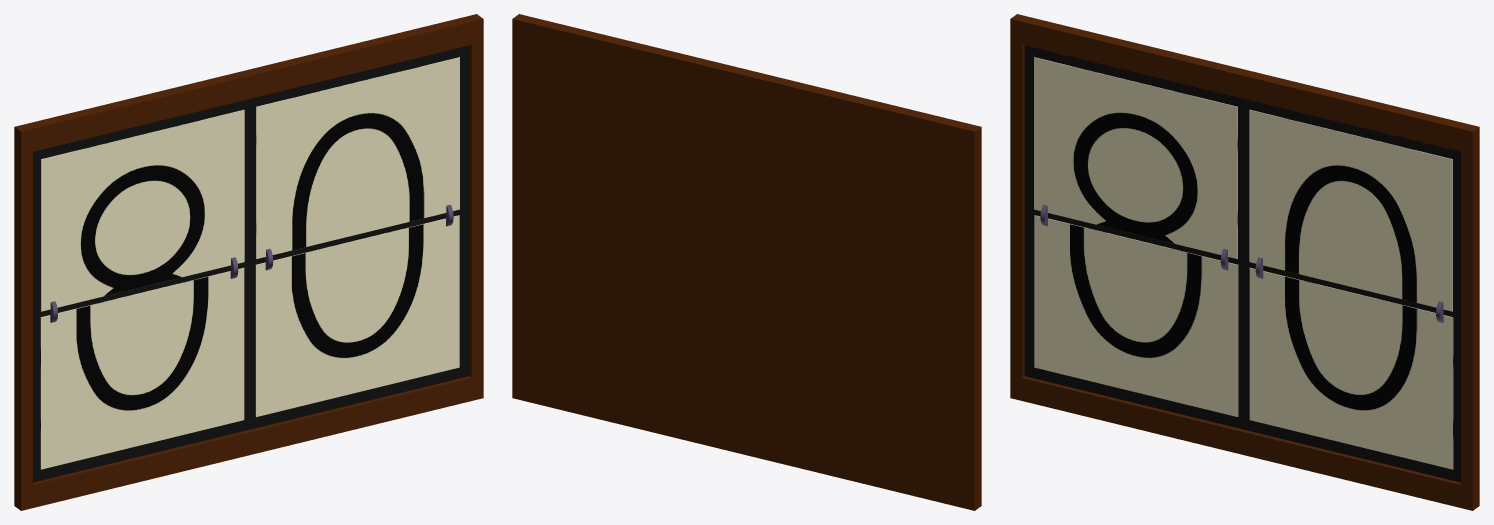
The model's file is ScBoard.FBX.
3 renders of one model, left to right at view 1: azimuth 30°, elevation 25°; view 2: azimuth 150°, elevation 25°; view 3: azimuth 330°, elevation 25°, orthographic.
Parts seen in each view (by area): view 1: ScoreBoard, 2-000, 1-000, 2-009, 1-001; view 2: ScoreBoard; view 3: ScoreBoard, 1-000, 2-000, 2-009, 1-001.
Boxes of the visible parts, bbox=[...] form: ScoreBoard: bbox=[14, 14, 483, 510]; 2-000: bbox=[40, 267, 244, 469]; 1-000: bbox=[255, 215, 459, 416]; 2-009: bbox=[41, 109, 244, 311]; 1-001: bbox=[256, 57, 459, 258]; ScoreBoard: bbox=[512, 14, 981, 510]; ScoreBoard: bbox=[1010, 14, 1479, 510]; 1-000: bbox=[1249, 267, 1453, 469]; 2-000: bbox=[1034, 215, 1238, 416]; 2-009: bbox=[1034, 57, 1237, 258]; 1-001: bbox=[1249, 109, 1452, 311].
Bounding box in the file's own units: 1.59 × 1.25 × 0.0473.
